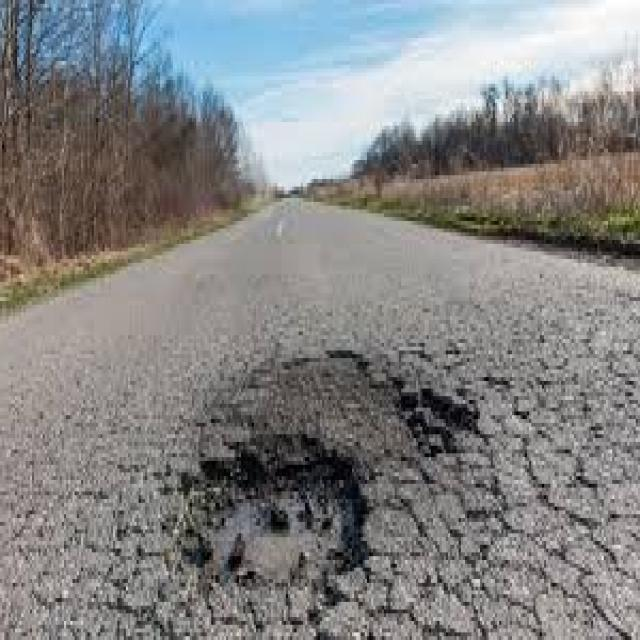Pothole: (172, 345, 480, 591)
